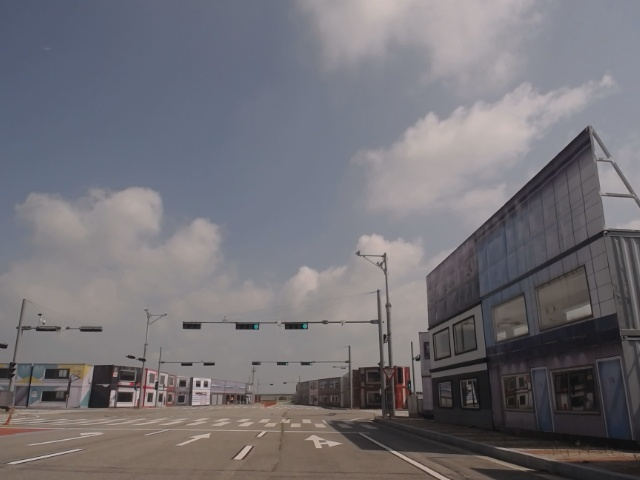straight_green_4: (283, 322, 310, 330), (234, 322, 260, 330)
